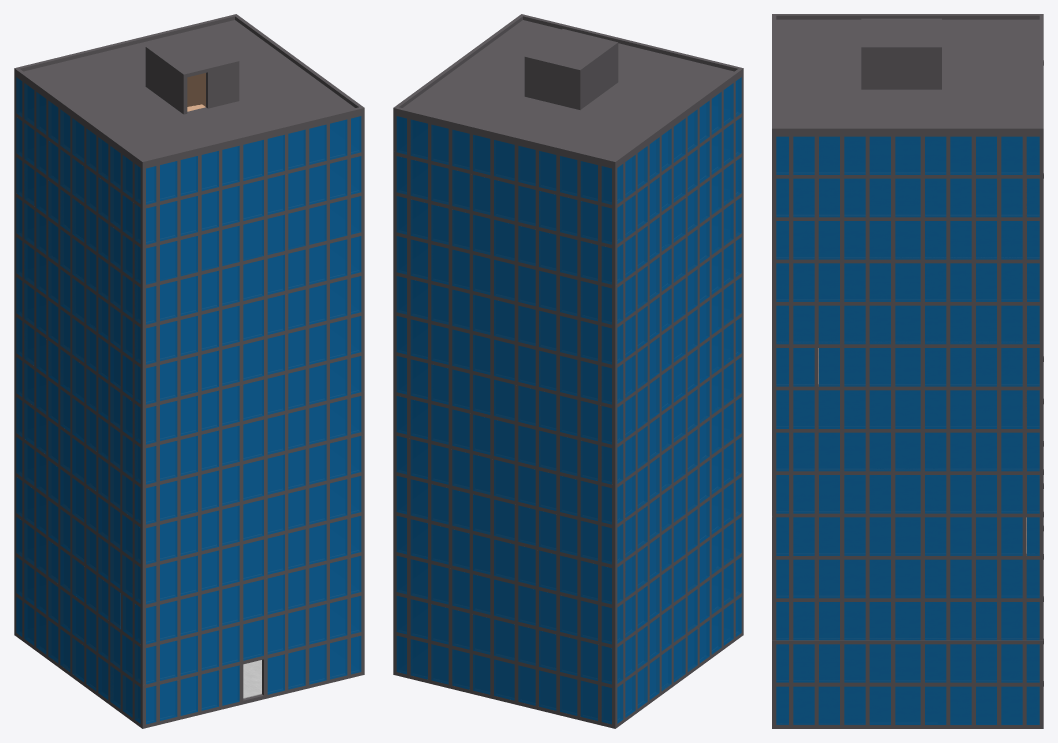
The model's file is Tower.fbx.
3 views of the same model, side by side, from view 1: azimuth 30°, elevation 25°; view 2: azimuth 150°, elevation 25°; view 3: azimuth 270°, elevation 25° (orthographic). The views are drawn at different scales.
Parts seen in each view (by area): view 1: ower; view 2: ower; view 3: ower.
Part boxes in pixels (x1,y1,x2,y2): ower: [14, 14, 364, 728]; ower: [393, 14, 743, 728]; ower: [772, 14, 1043, 728].
Size of the model in its own units: 6401 by 16600 by 6402.
Materials: 5 (1 with a texture image).
